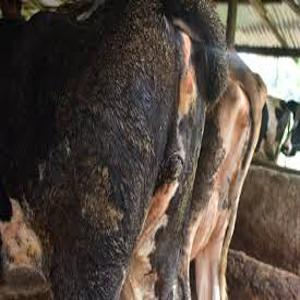lumpy skin diesease: (0, 0, 228, 299)
